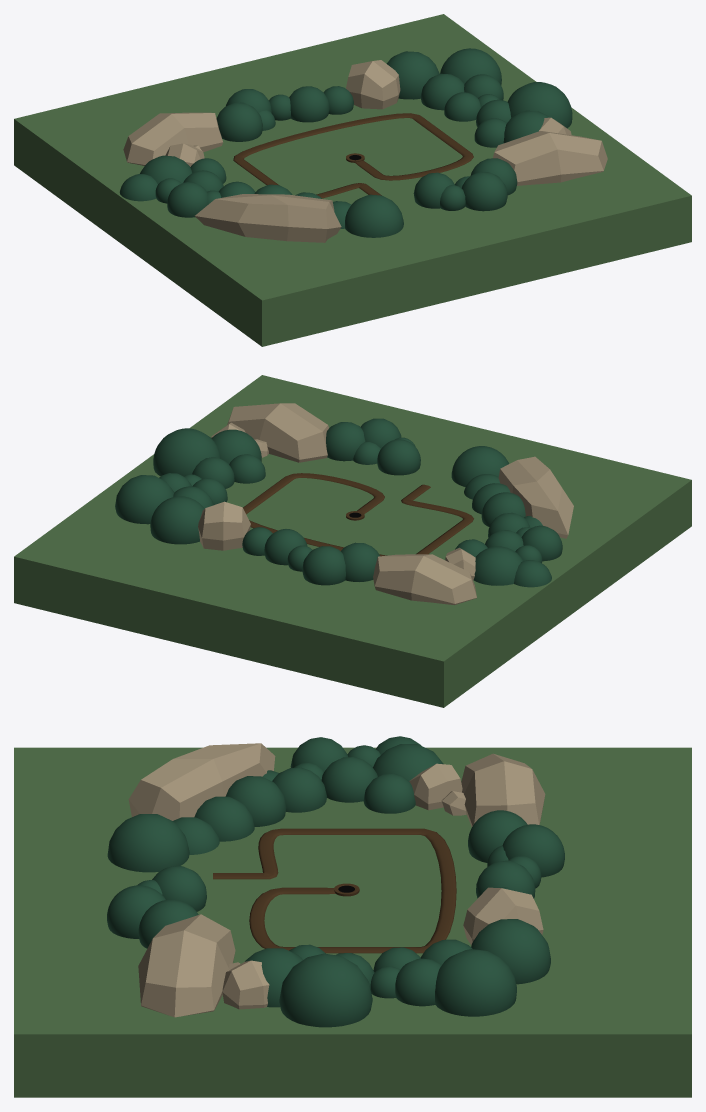
File: firstLevel.glb
3 views of the same model, one above another, from view 1: azimuth 30°, elevation 25°; view 2: azimuth 150°, elevation 25°; view 3: azimuth 270°, elevation 25° (orthographic). The views are drawn at different scales.
Visible parts, largest first — view 1: Cube, Cube.008, Cube.002, Cube.005, Road, Cube.001, Sphere.029, Sphere.035, Sphere.016, Sphere.004, Sphere.019, Sphere.037 (+17 smaller); view 2: Cube, Cube.005, Cube.002, Cube.008, Road, Sphere.035, Sphere.016, Cube.001, Sphere.037, Sphere.028, Sphere.029, Sphere.006 (+17 smaller); view 3: Cube, Cube.002, Cube.008, Road, Sphere.035, Sphere.037, Cube.005, Sphere.029, Sphere.016, Cube.001, Sphere.006, Sphere.023 (+19 smaller).
Part boxes in pixels (x1,y1,x2,y2): Cube: (14, 14, 691, 346); Cube.008: (195, 194, 341, 242); Cube.002: (493, 131, 607, 185); Cube.005: (123, 112, 222, 165); Road: (233, 113, 473, 198); Cube.001: (346, 60, 400, 109); Sphere.029: (345, 194, 403, 237); Sphere.035: (507, 82, 572, 128); Sphere.016: (387, 51, 439, 99); Sphere.004: (216, 102, 262, 141); Sphere.019: (461, 172, 507, 211); Sphere.037: (440, 48, 501, 85); Cube: (14, 375, 691, 707); Cube.005: (373, 554, 476, 605); Cube.002: (227, 403, 328, 462); Cube.008: (498, 456, 573, 538); Road: (243, 473, 473, 556); Sphere.035: (153, 428, 219, 476); Sphere.016: (150, 496, 204, 544); Cube.001: (198, 501, 250, 550); Sphere.037: (115, 475, 174, 524); Sphere.028: (473, 546, 523, 585); Sphere.029: (451, 446, 508, 486); Sphere.006: (302, 546, 345, 585); Cube: (14, 747, 691, 1097); Cube.002: (138, 914, 235, 1017); Cube.008: (128, 743, 275, 820); Road: (213, 828, 456, 953); Sphere.035: (279, 953, 372, 1027); Sphere.037: (435, 949, 516, 1016); Cube.005: (461, 753, 545, 826); Sphere.029: (107, 814, 189, 872); Sphere.016: (471, 919, 550, 984); Cube.001: (463, 887, 543, 945); Sphere.006: (502, 824, 564, 877); Sphere.023: (225, 776, 286, 826).
Bounding box in the file's own units: 19.36 × 3.65 × 19.36.
